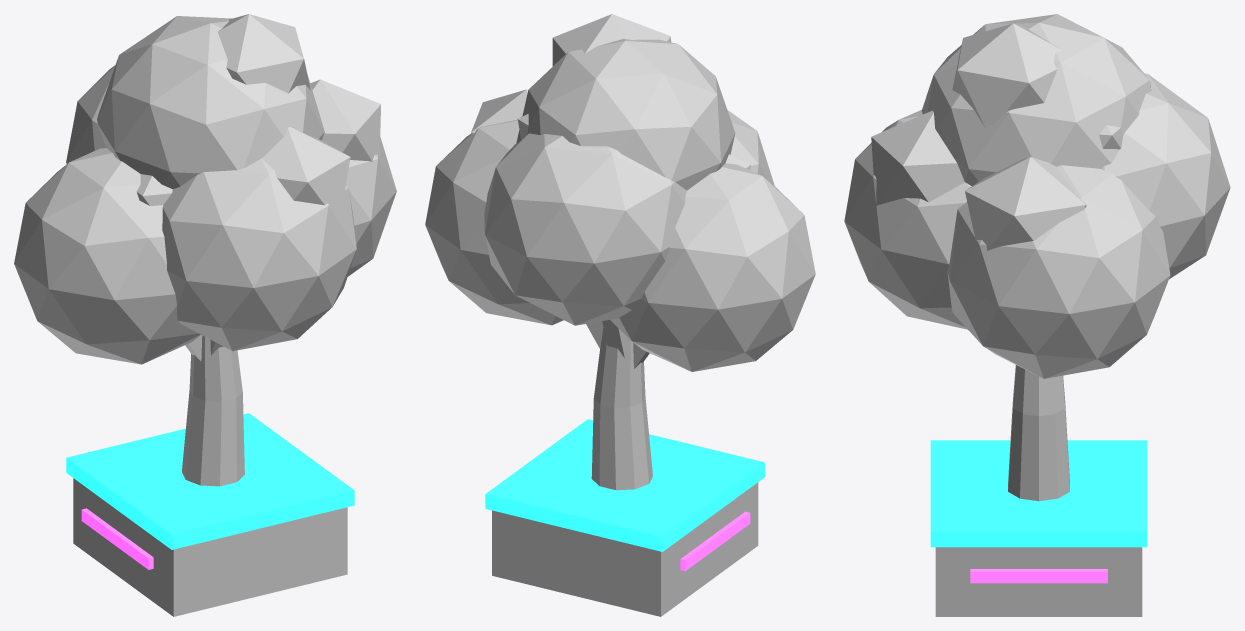
3 views of the same model, side by side, from view 1: azimuth 30°, elevation 25°; view 2: azimuth 150°, elevation 25°; view 3: azimuth 270°, elevation 25° (orthographic). The views are drawn at different scales.
Parts seen in each view (by area): view 1: Neon_PlanterTree_Showcase; view 2: Neon_PlanterTree_Showcase; view 3: Neon_PlanterTree_Showcase.
Boxes of the visible parts, x1=… form: Neon_PlanterTree_Showcase: x1=14, y1=14, x2=396, y2=616; Neon_PlanterTree_Showcase: x1=425, y1=14, x2=815, y2=616; Neon_PlanterTree_Showcase: x1=844, y1=14, x2=1230, y2=616.
Size of the model in its own units: 2.5 by 3.61 by 2.24.
